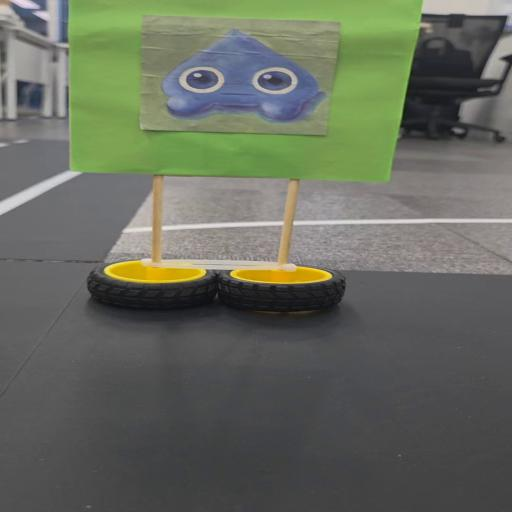Sign_B: (63, 2, 408, 323)
